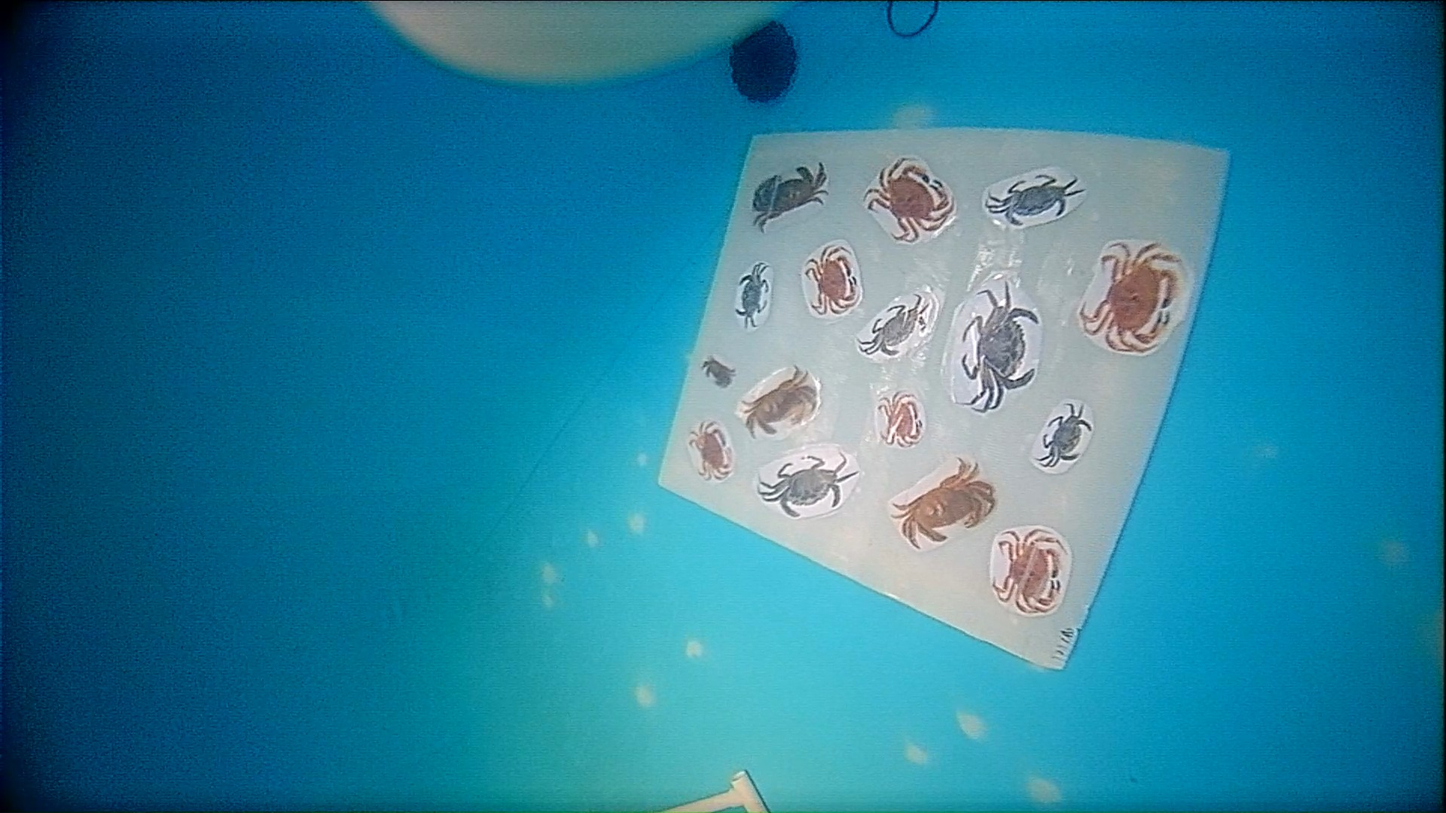GreenCrab: (961, 288, 1038, 411), (758, 455, 859, 518), (985, 174, 1085, 227), (1036, 403, 1092, 467)
